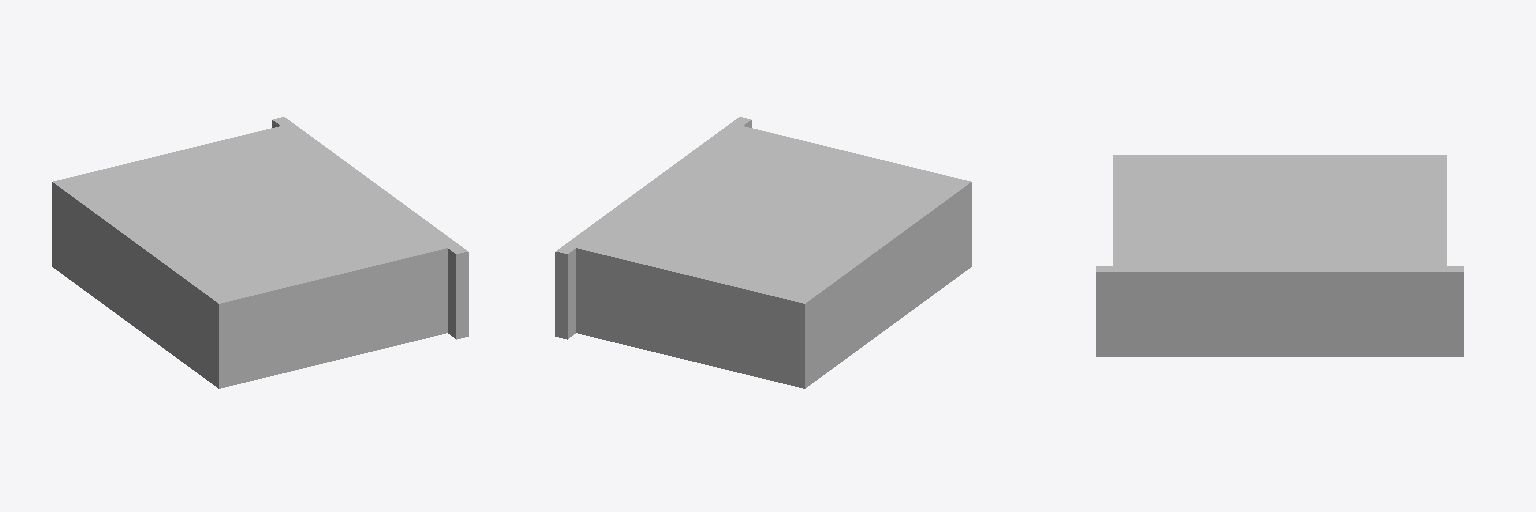
The model's file is (09) Power 6560.obj.
3 views of the same model, side by side, from view 1: azimuth 30°, elevation 25°; view 2: azimuth 150°, elevation 25°; view 3: azimuth 270°, elevation 25° (orthographic).
Parts seen in each view (by area): view 1: unit_Cube.001; view 2: unit_Cube.001; view 3: unit_Cube.001.
Boxes of the visible parts, x1=… form: unit_Cube.001: x1=52, y1=117, x2=468, y2=388; unit_Cube.001: x1=555, y1=117, x2=971, y2=388; unit_Cube.001: x1=1096, y1=155, x2=1463, y2=356.
Bounding box in the file's own units: 0.4 × 0.135 × 0.53.